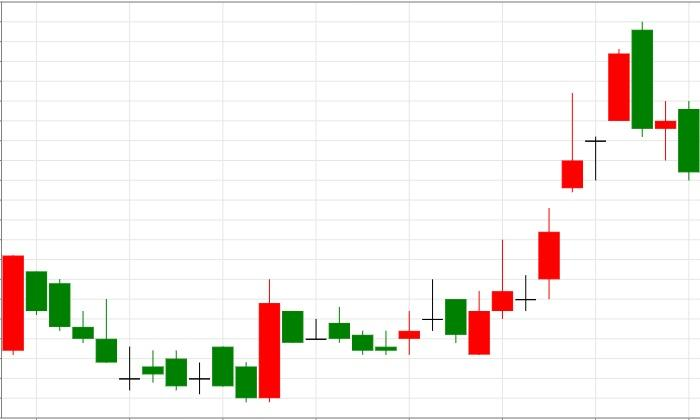bearish_engulfing_fall: (468, 21, 654, 355)
bullish_engulfing_rise: (1, 255, 280, 402)
